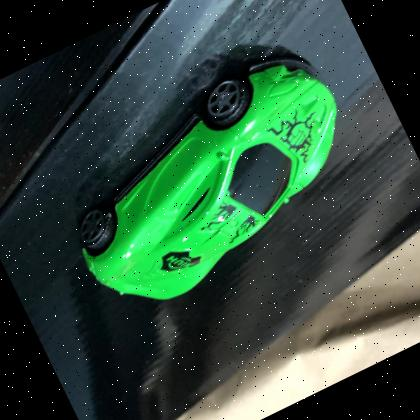Car: (77, 54, 337, 299)
